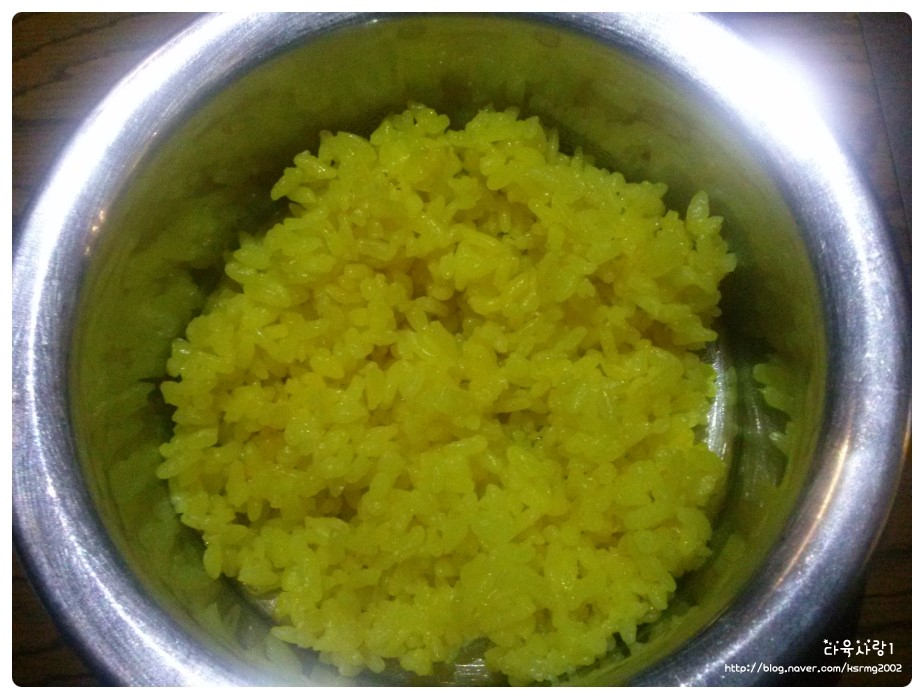plain rice: (181, 148, 744, 666)
